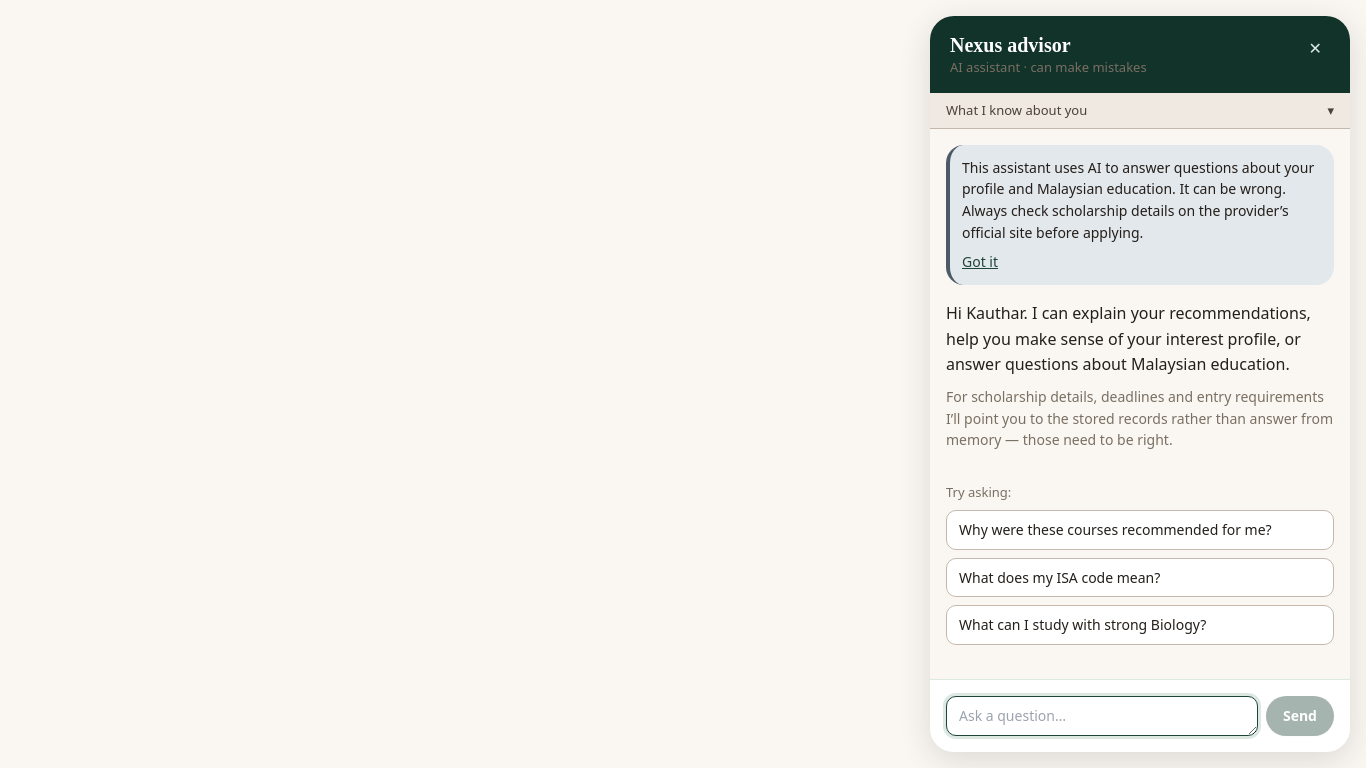
Test: ChatPanel — AI disclosure (ui-spec §8.8) › shows the fuller first-session notice, once
The image size is (1366, 768).
Expected: the text "It can be wrong" is shown, [962,158,1314,242]
Click the button "Got it".
click(980, 262)  # box [962,251,998,273]
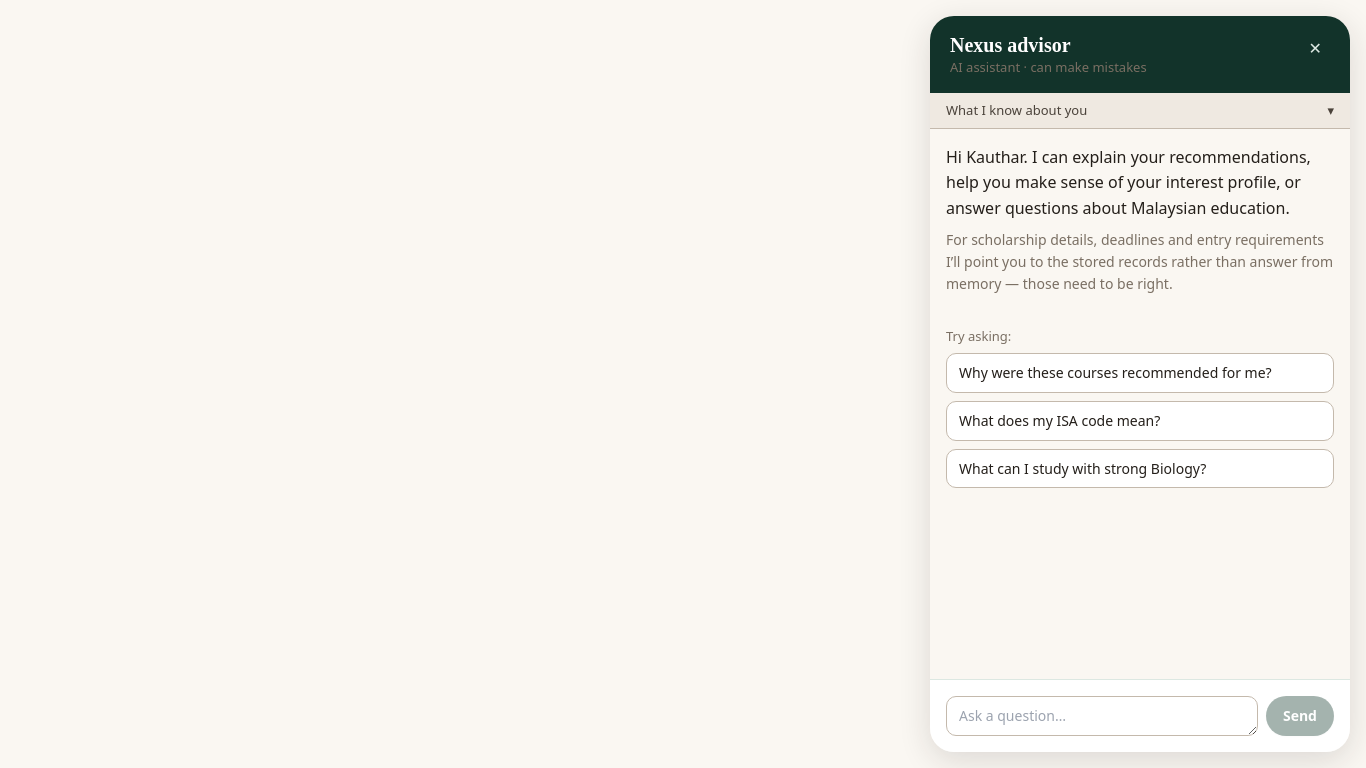
Result: the text "It can be wrong" is gone
